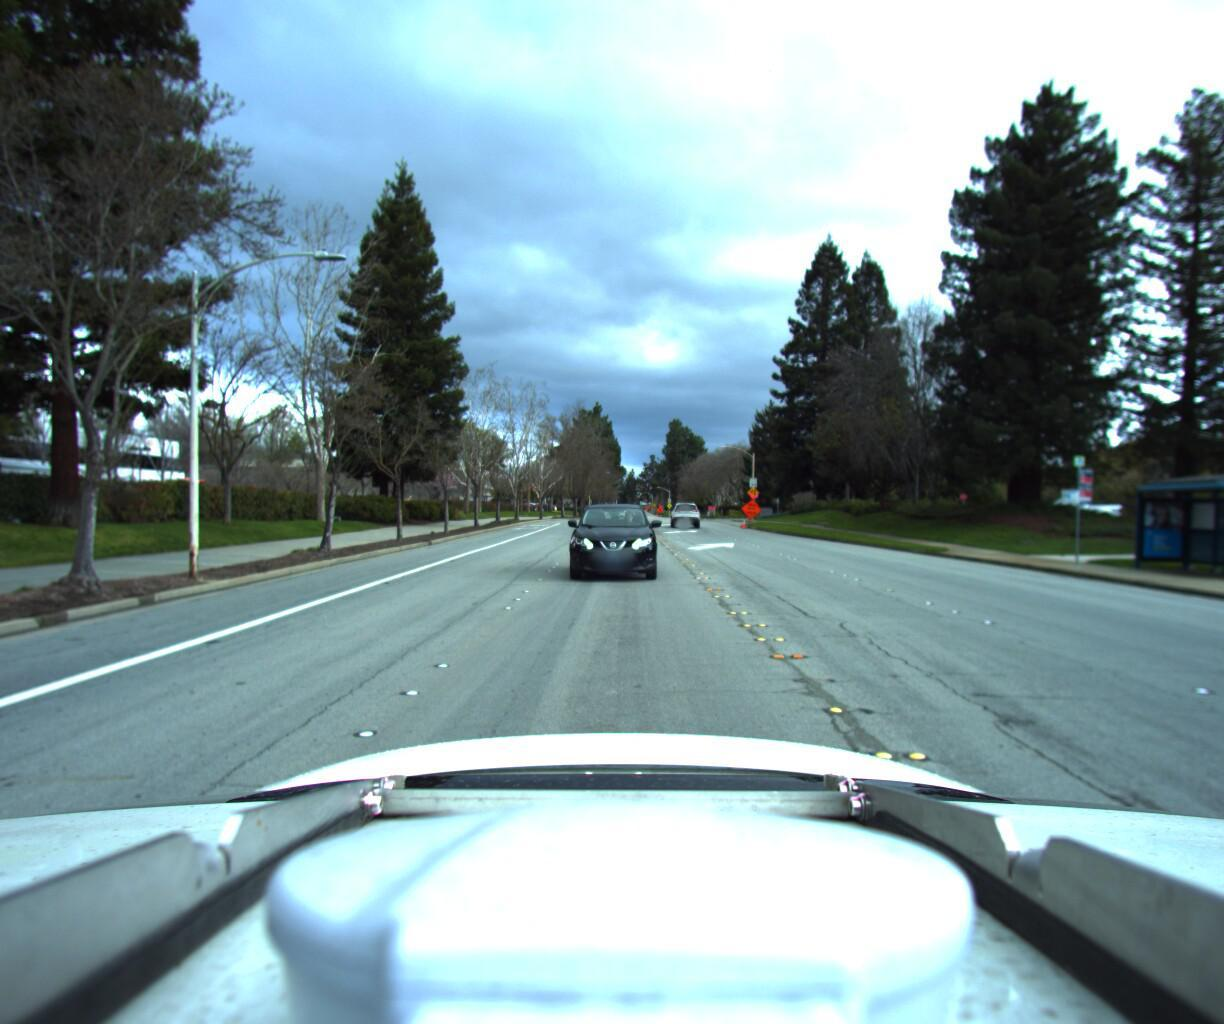car: (569, 493, 660, 578), (668, 498, 700, 525)
